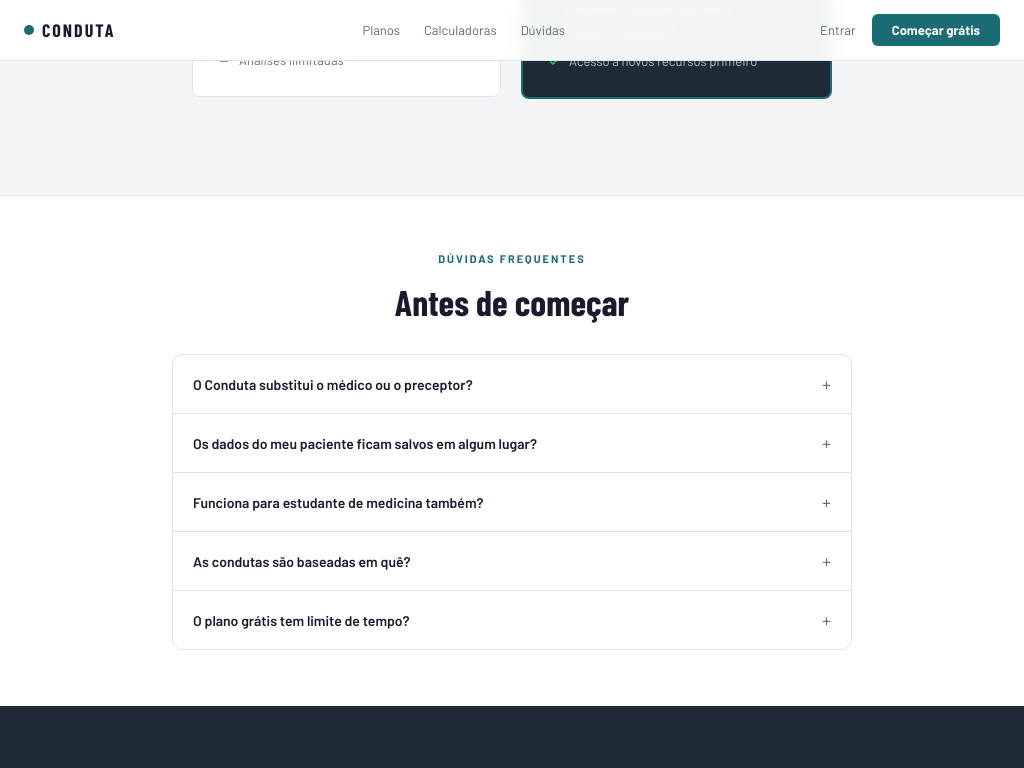
Test: LandingPage › FAQ — abre resposta ao clicar na pergunta
(page scrolled)
Expected: the text "ferramenta de apoio à decisão" is not shown
What coordinates should you click on to do the following:
click the button "O Conduta substitui o médico ou o preceptor? +"
I would click on:
 (333, 384)
Its box is [173, 355, 851, 413].
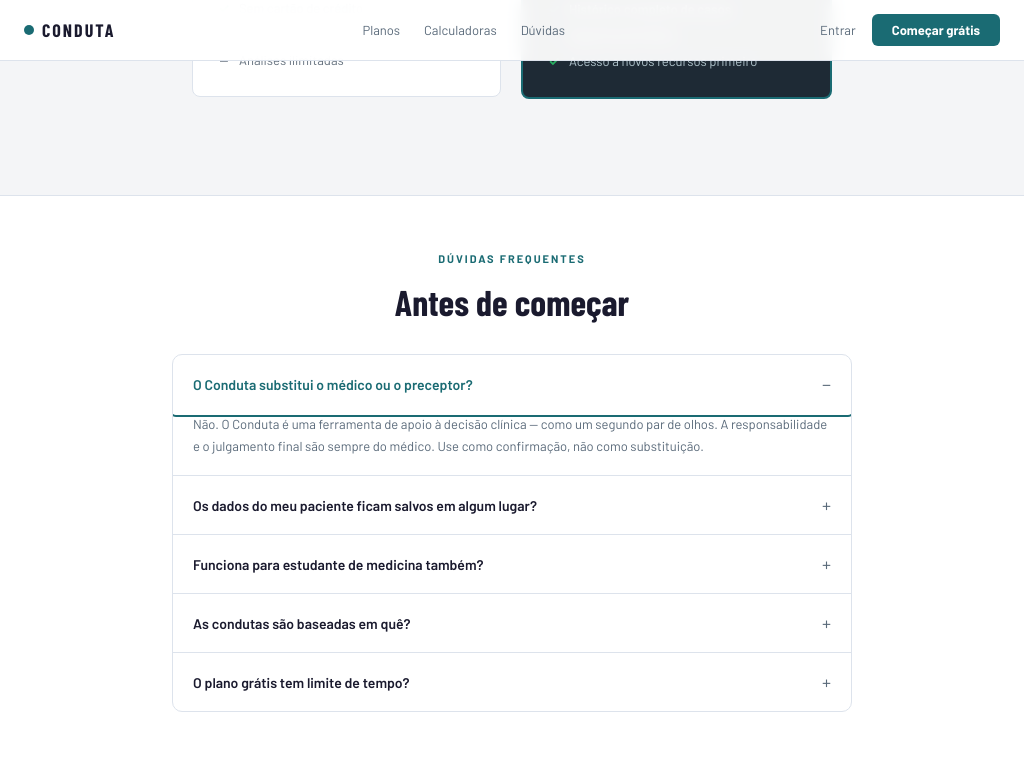
Expected: the text "ferramenta de apoio à decisão" is shown, [193, 416, 827, 454]
